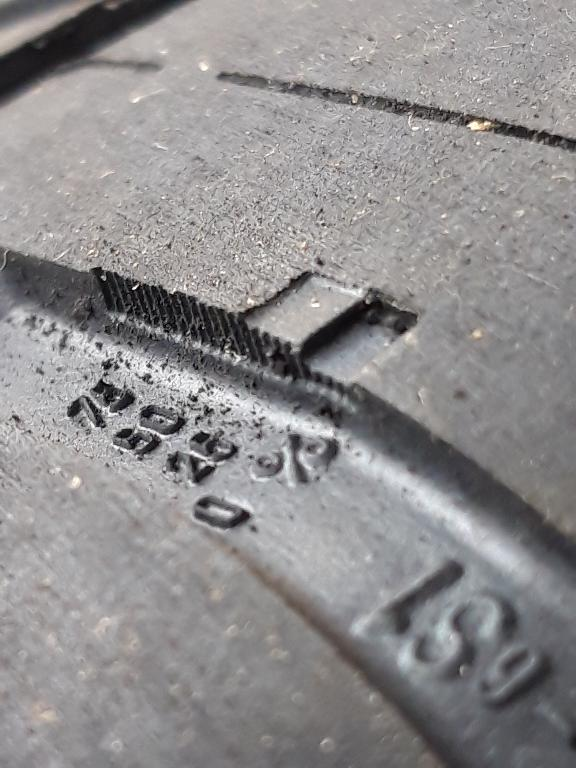temoin:25: (228, 263, 430, 418)
